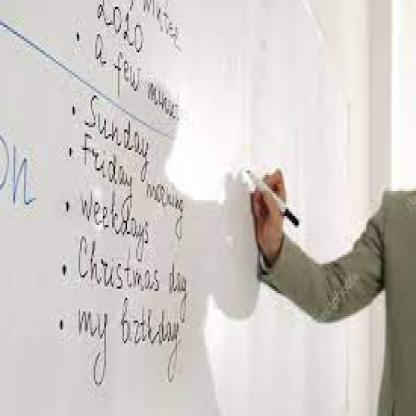Handwritten text: (56, 129, 212, 241), (68, 24, 205, 135), (58, 80, 180, 180), (66, 233, 210, 315), (71, 290, 189, 388), (63, 184, 174, 262)
